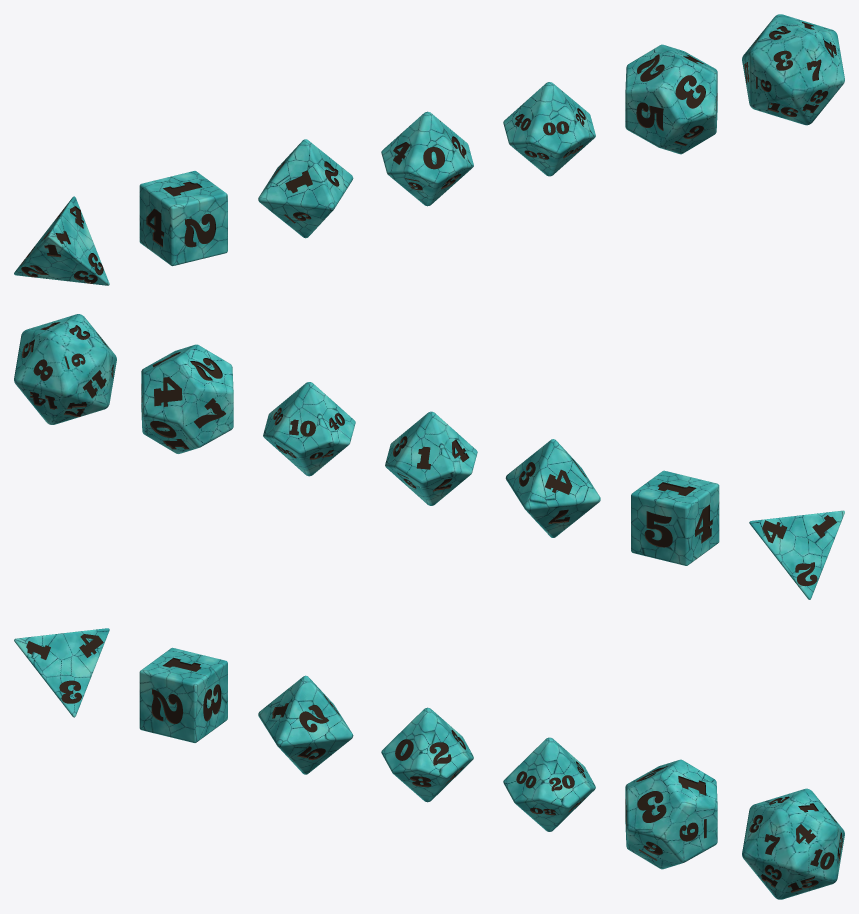
The model's file is turquoise.glb.
The picture shows the model from 3 angles, top to bottom: view 1: azimuth 30°, elevation 25°; view 2: azimuth 150°, elevation 25°; view 3: azimuth 330°, elevation 25°; orthographic projection.
Parts seen in each view (by area): view 1: d20, d12, d6, d100, d10, d8, d4; view 2: d20, d12, d6, d100, d10, d8, d4; view 3: d20, d12, d6, d8, d10, d100, d4.
Boxes of the visible parts, left/top/right/bottom form: d20: left=742, top=14, right=844, bottom=125; d12: left=625, top=44, right=717, bottom=154; d6: left=139, top=171, right=227, bottom=266; d100: left=503, top=82, right=595, bottom=176; d10: left=381, top=111, right=473, bottom=206; d8: left=258, top=139, right=353, bottom=238; d4: left=14, top=196, right=109, bottom=285; d20: left=14, top=314, right=116, bottom=424; d12: left=141, top=344, right=233, bottom=453; d6: left=631, top=470, right=719, bottom=565; d100: left=263, top=382, right=355, bottom=476; d10: left=385, top=411, right=477, bottom=505; d8: left=505, top=439, right=600, bottom=537; d4: left=749, top=510, right=844, bottom=599; d20: left=742, top=788, right=844, bottom=899; d12: left=625, top=759, right=717, bottom=869; d6: left=139, top=647, right=227, bottom=742; d8: left=258, top=675, right=353, bottom=774; d10: left=381, top=707, right=473, bottom=802; d100: left=503, top=737, right=595, bottom=831; d4: left=14, top=628, right=109, bottom=717.
Size of the model in its own units: 21.14 by 2.47 by 2.47.
Materials: 14 (7 with a texture image).
